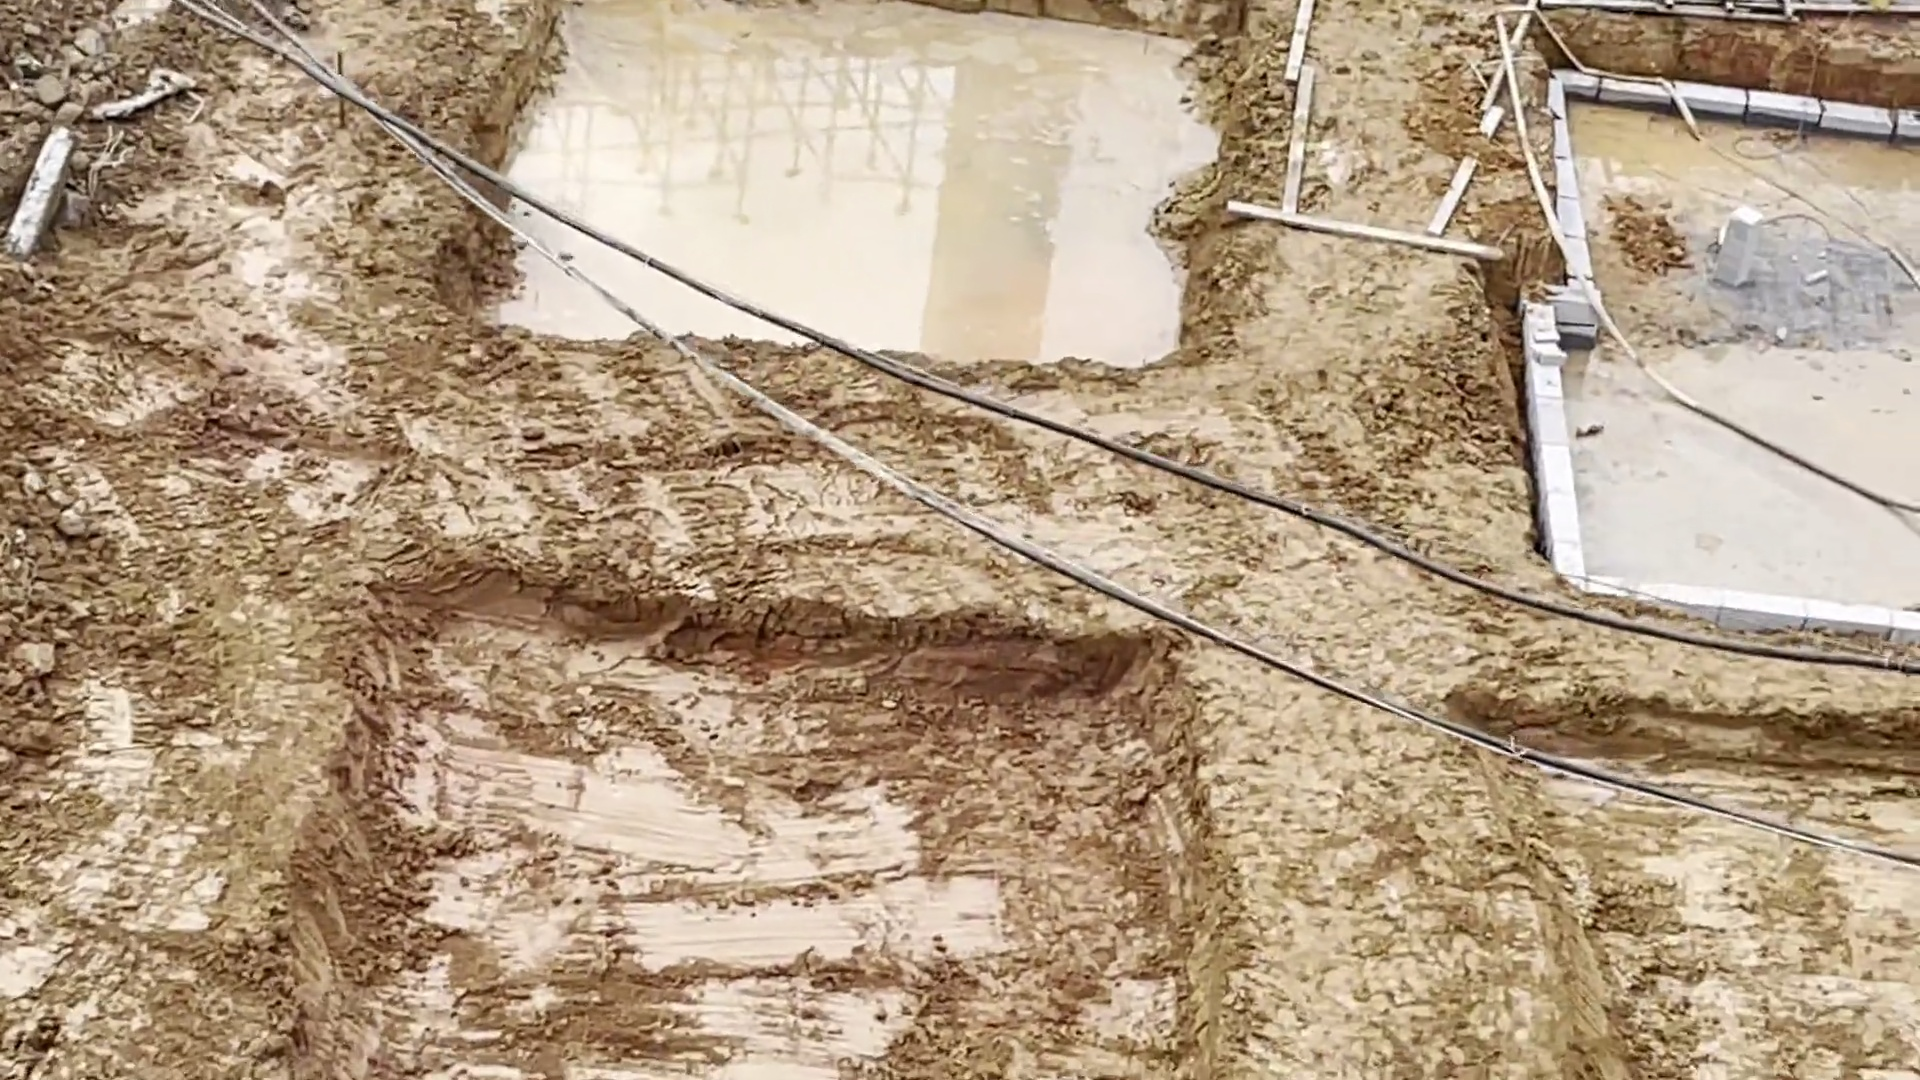brick: (1594, 571, 1920, 637), (1590, 69, 1920, 131), (1524, 301, 1580, 582), (1547, 73, 1592, 331)
